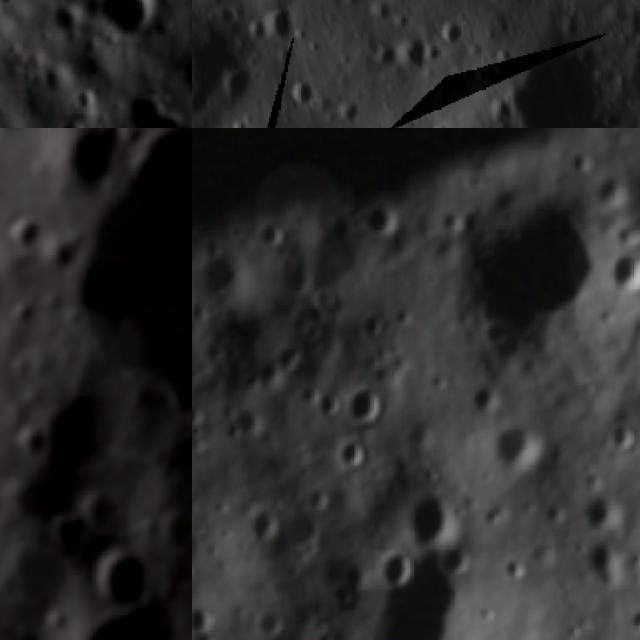crater: (435, 194, 614, 368), (42, 128, 124, 208), (394, 483, 466, 558), (88, 548, 164, 618), (77, 598, 189, 640), (192, 241, 253, 312), (92, 0, 166, 50), (489, 416, 555, 472), (276, 501, 336, 560), (580, 164, 637, 223), (559, 537, 622, 582), (338, 384, 396, 432), (76, 486, 131, 533), (114, 95, 192, 128), (599, 243, 640, 304), (0, 208, 48, 259), (376, 542, 418, 596), (582, 486, 629, 532), (9, 417, 55, 462), (222, 400, 267, 445), (45, 232, 91, 276), (333, 431, 373, 480), (360, 199, 409, 239), (280, 70, 322, 116), (601, 412, 640, 461), (262, 2, 302, 48), (2, 294, 42, 332), (464, 381, 501, 421), (434, 14, 474, 49), (40, 102, 93, 128), (54, 303, 90, 340), (313, 386, 345, 427), (252, 606, 288, 640), (256, 216, 288, 251), (192, 604, 217, 640), (0, 128, 30, 154), (620, 603, 640, 640), (227, 113, 258, 128), (428, 118, 456, 128)
